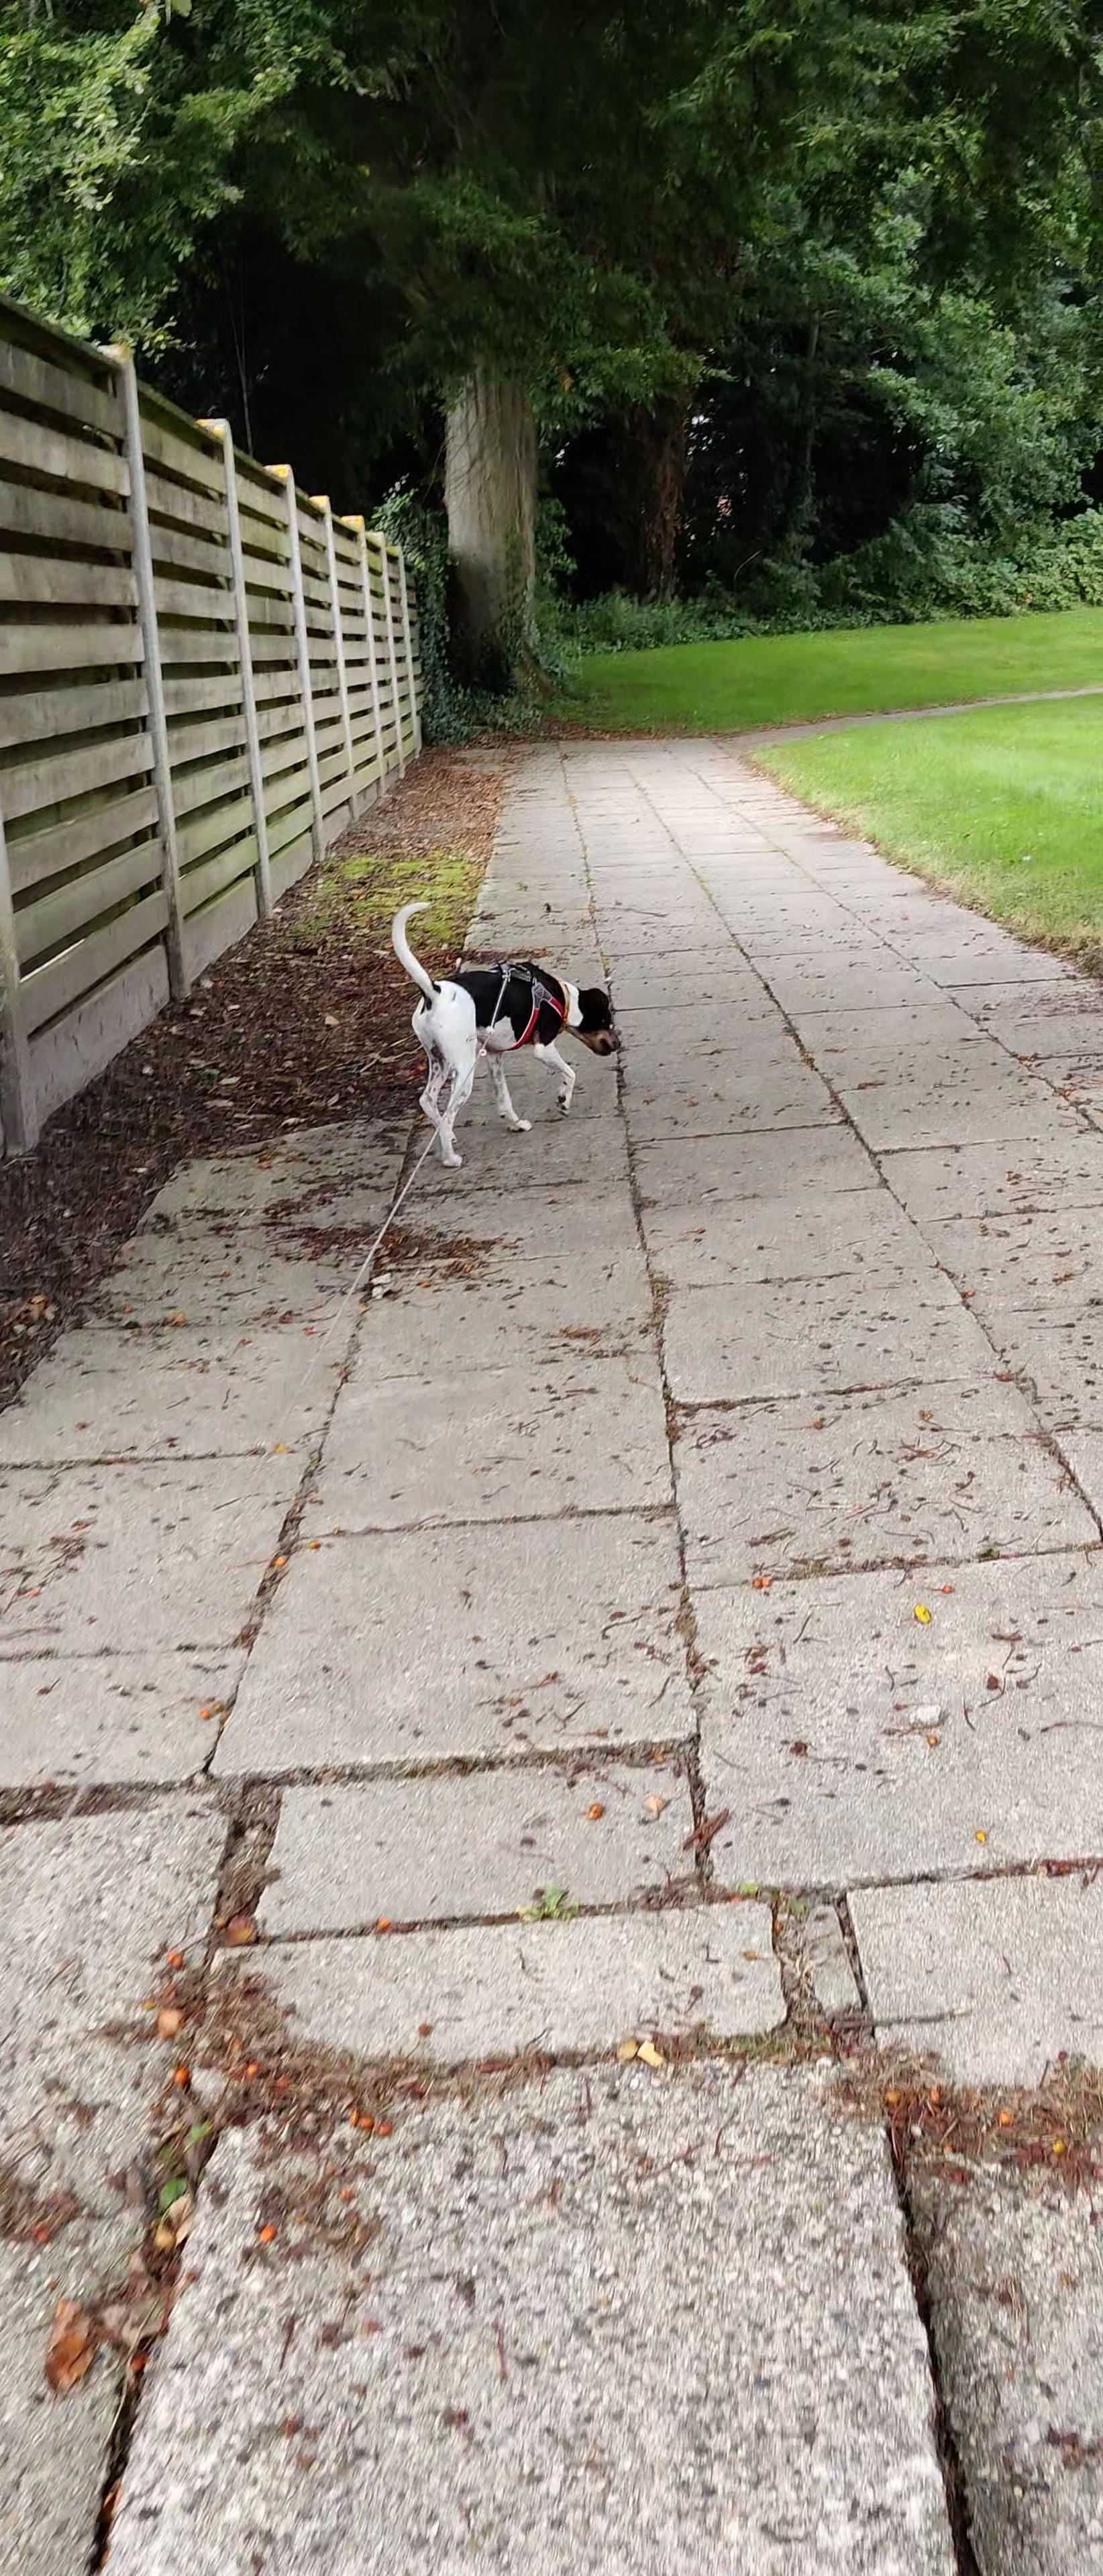Dog: (386, 900, 626, 1168)
